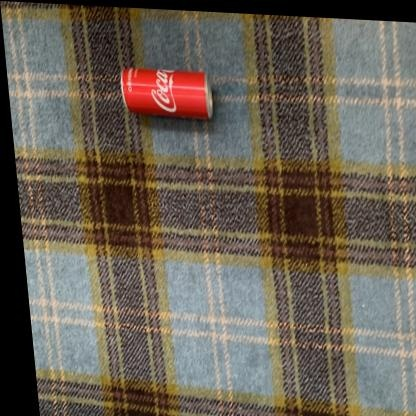trash: (121, 67, 212, 118)
